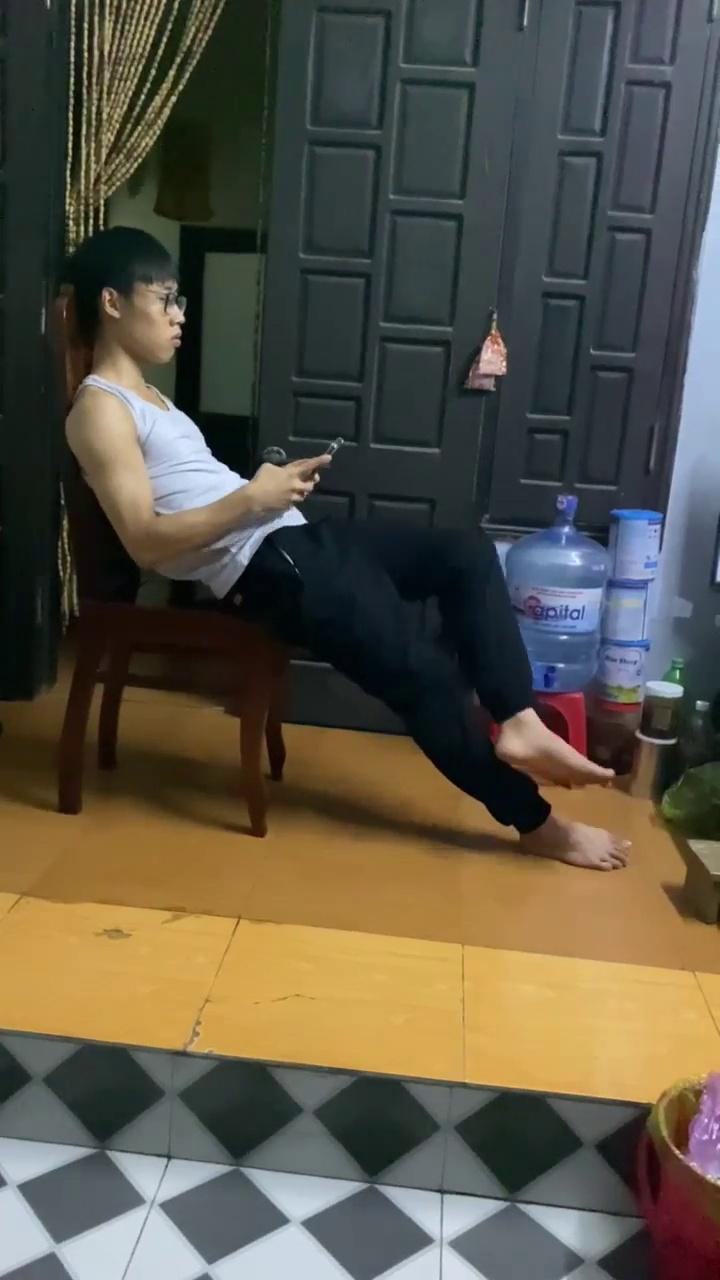BadPosture: (66, 228, 626, 871)
